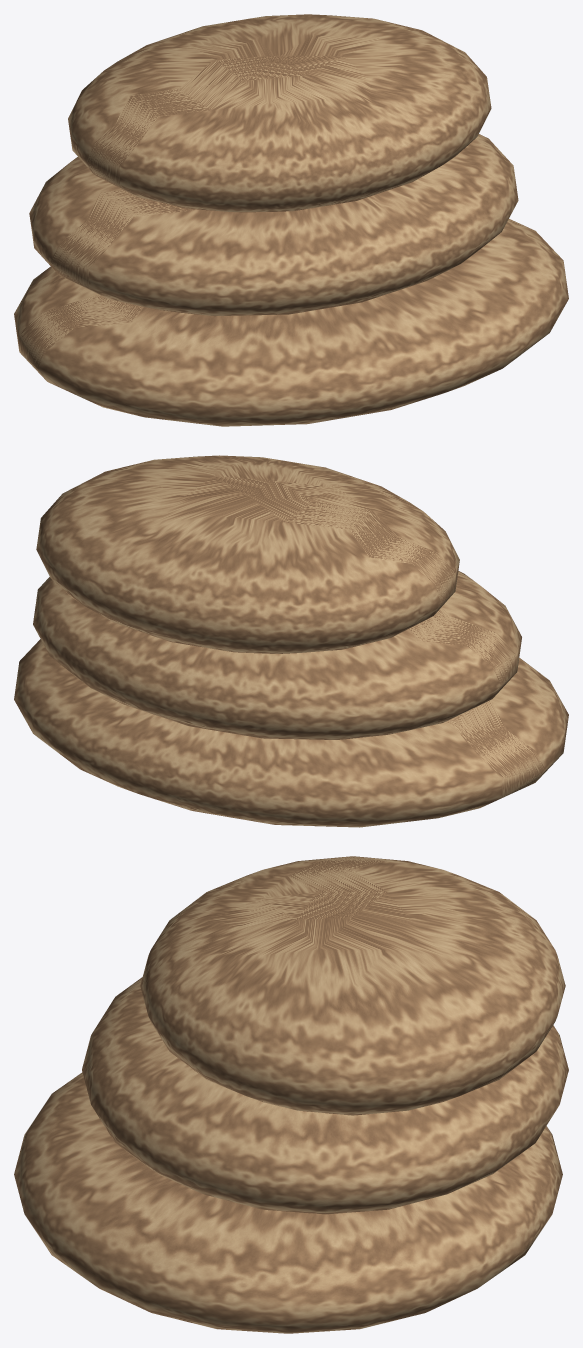
Rendered from obstacle_big_5.dae.
The picture shows the model from 3 angles, top to bottom: view 1: azimuth 30°, elevation 25°; view 2: azimuth 150°, elevation 25°; view 3: azimuth 270°, elevation 25°; orthographic projection. The views are drawn at different scales.
Visible parts, largest first — view 1: obstacle_big_5; view 2: obstacle_big_5; view 3: obstacle_big_5.
Boxes of the visible parts, box(x1,y1,x2,y2) form: obstacle_big_5: box(14, 14, 568, 426); obstacle_big_5: box(14, 455, 568, 827); obstacle_big_5: box(14, 856, 568, 1333).
Bounding box in the file's own units: 1 × 0.8088 × 0.5377.
Materials: 1 (1 with a texture image).
